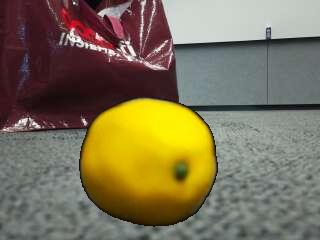lemon: (81, 99, 216, 226)
